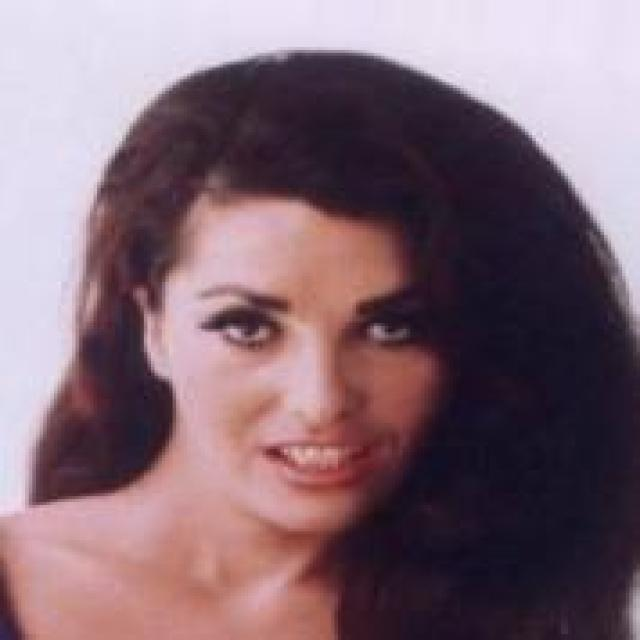bareface: (92, 184, 471, 544)
